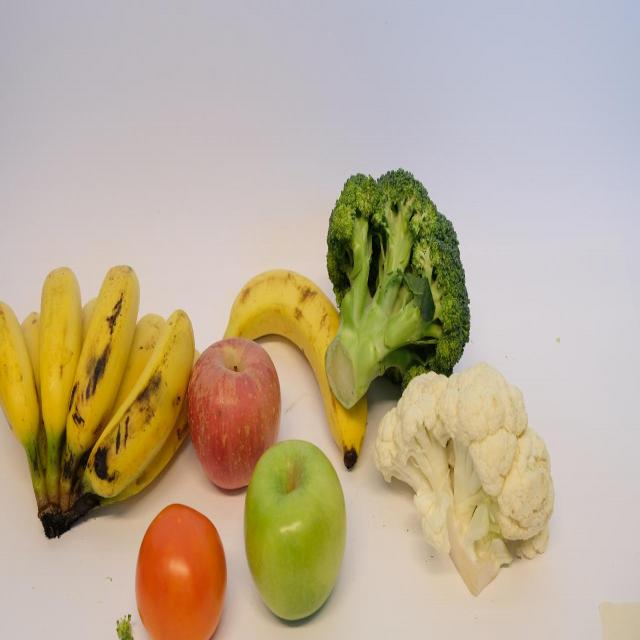apple: (244, 420, 350, 638), (186, 321, 284, 497)
banana: (225, 251, 378, 471), (86, 305, 202, 506), (62, 255, 142, 451), (39, 258, 83, 453), (0, 292, 42, 464)
broccoli: (322, 156, 477, 418)
cauliflower: (373, 339, 573, 602)
tomato: (132, 492, 232, 638)
